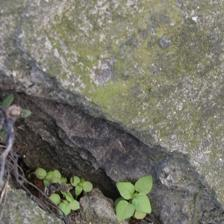Crack: (129, 132, 218, 216), (4, 76, 126, 128)
